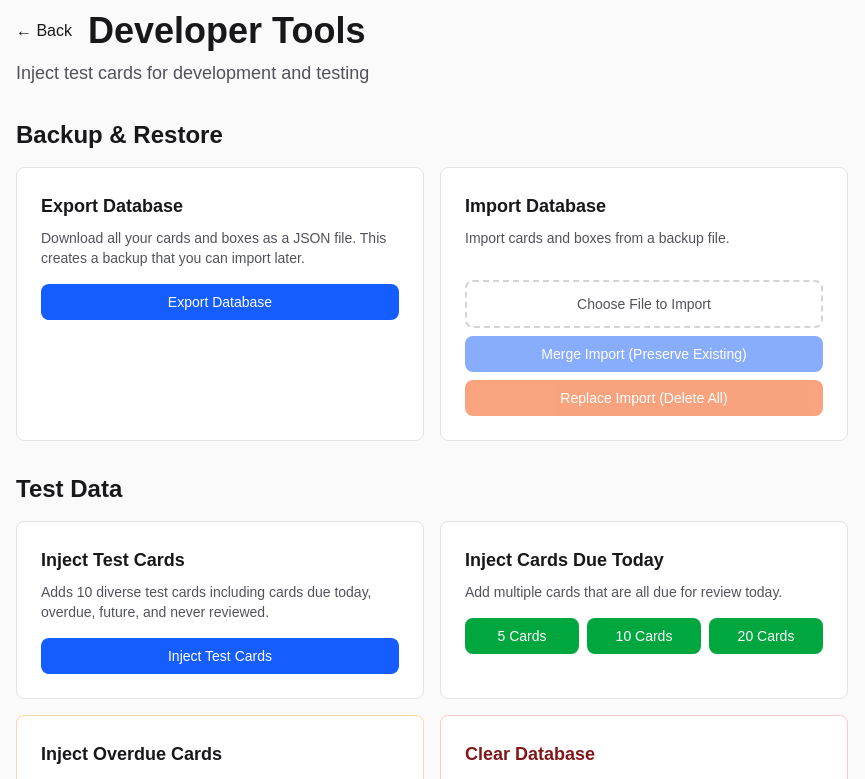
Test: Dev Tools Page › Inject Test Cards › should display error message on failure
What coordinates should you click on to do the following:
click the button "Inject Test Cards"
I would click on:
 (220, 656)
Its box is 41,638 -> 399,674.
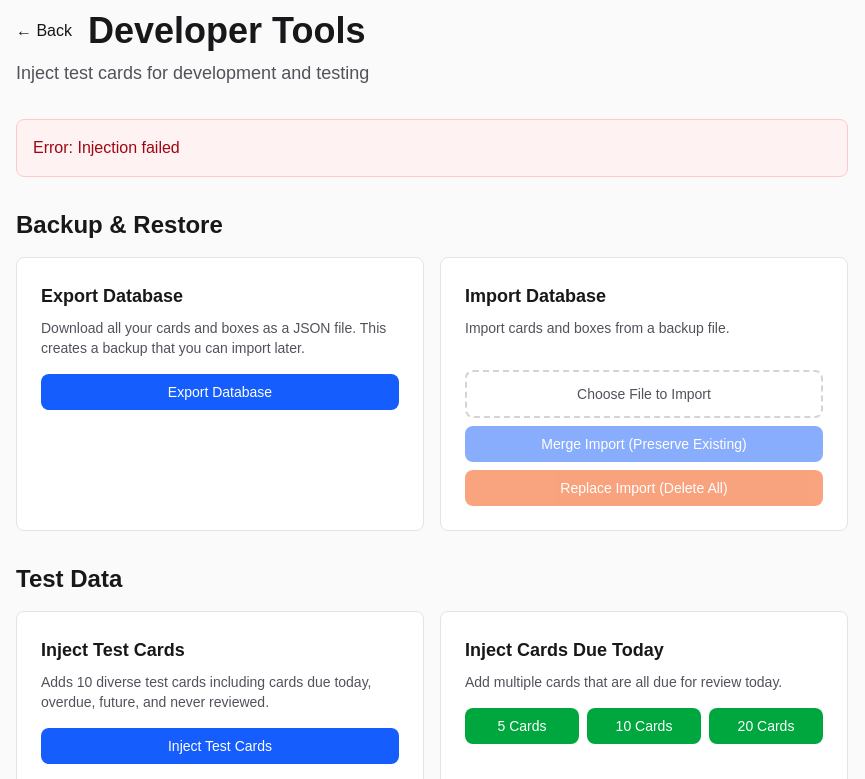
Expected: the text "Error: Injection failed" is shown, 16,119 -> 848,177
